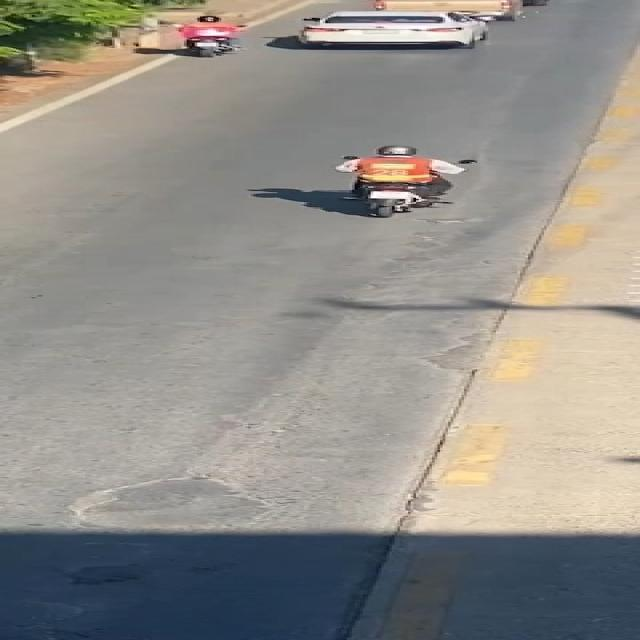car: (286, 11, 495, 48)
